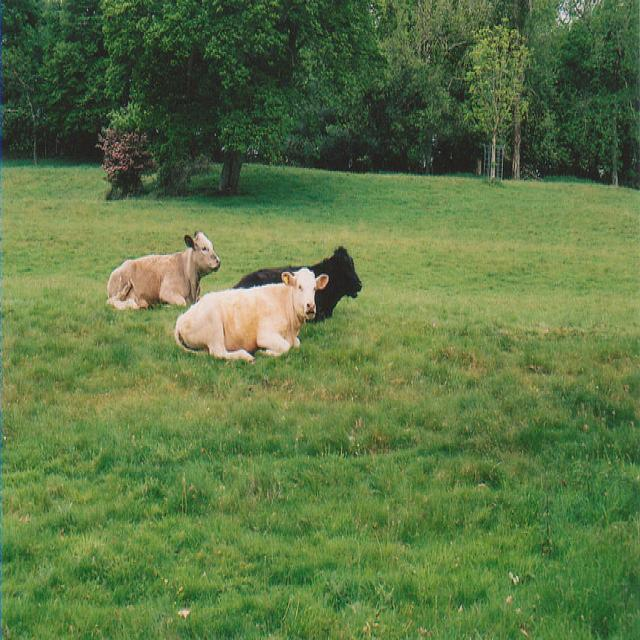cow: (173, 266, 327, 359), (231, 239, 361, 323), (105, 225, 223, 309)
